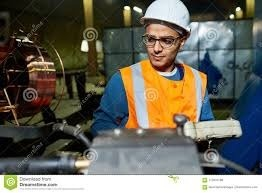helmet: (137, 1, 192, 38)
person with full safety: (107, 1, 214, 120)
safety vest: (119, 63, 206, 129)
